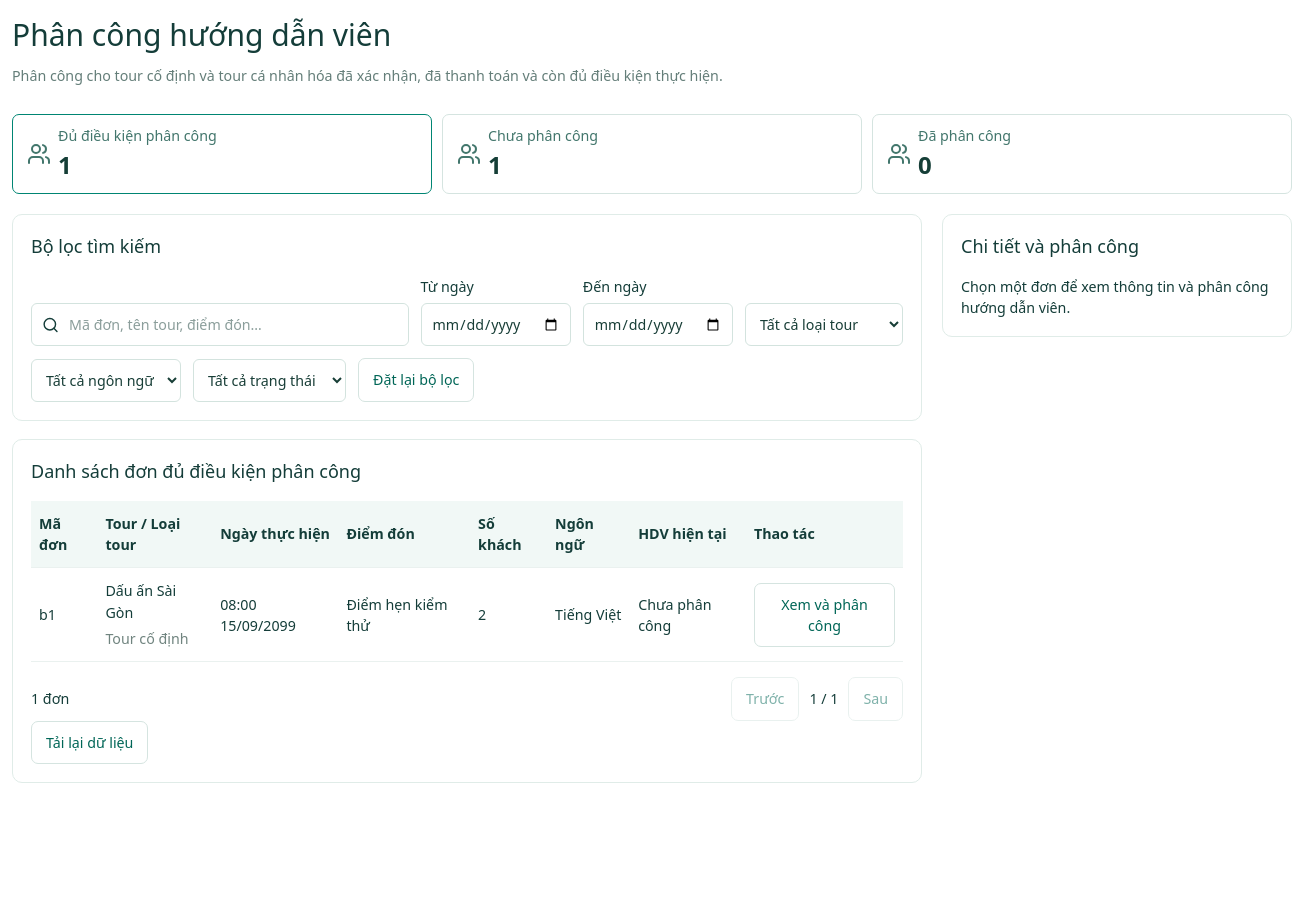
Test case: shows unavailable history rather than endless loading when the runtime lacks detail reads
Click the button "Xem và phân công".
click(824, 615)  # box [754,583,895,647]
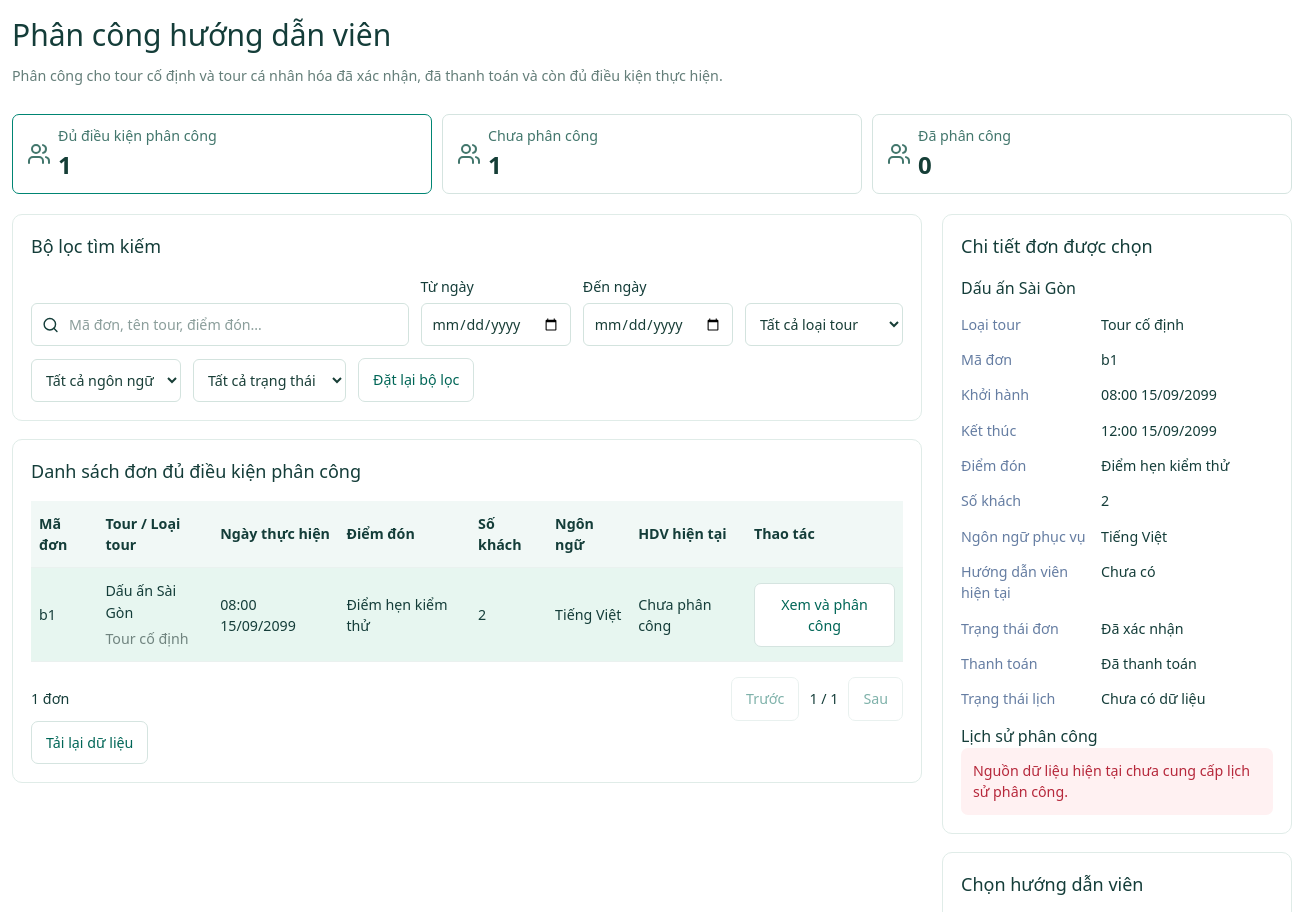
Expected: the text "Nguồn dữ liệu hiện tại chưa cung cấp lịch sử phân công." is shown, [961,748,1273,814]
